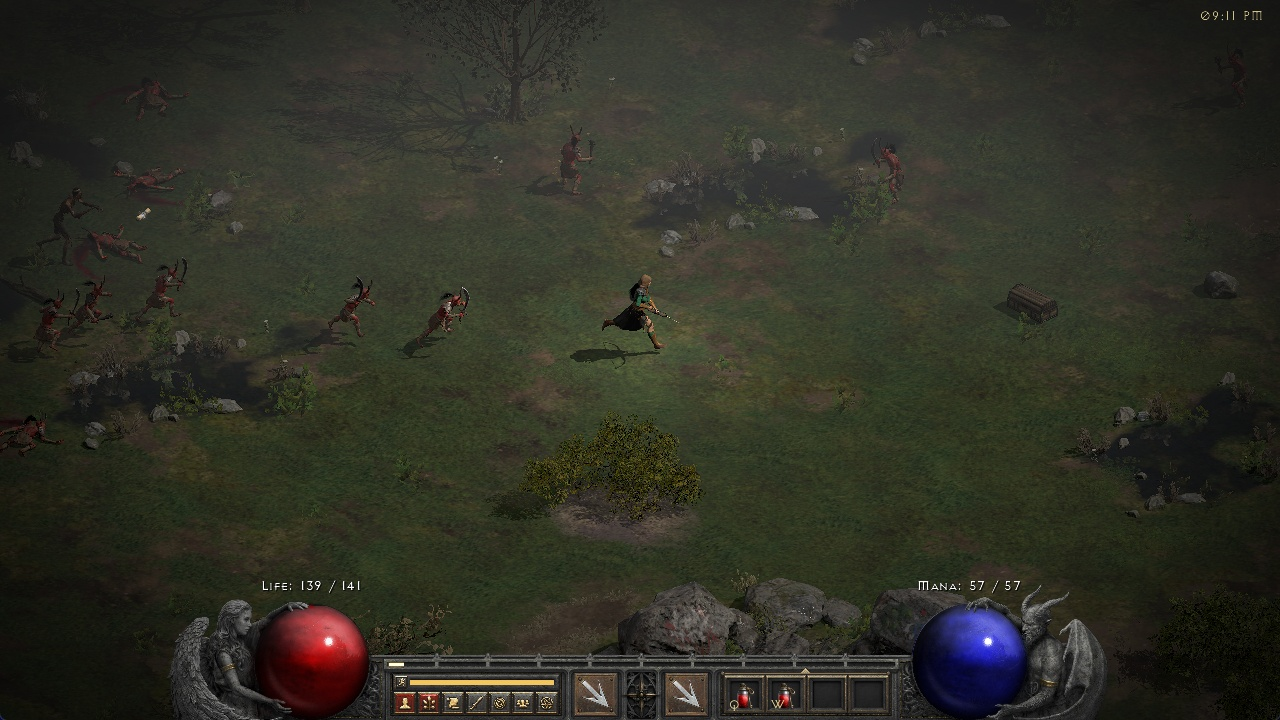fallen: (322, 276, 382, 338), (869, 132, 915, 202), (416, 285, 475, 338), (552, 123, 596, 193), (143, 256, 191, 316), (1209, 45, 1254, 107), (73, 276, 115, 328), (31, 295, 69, 352)
